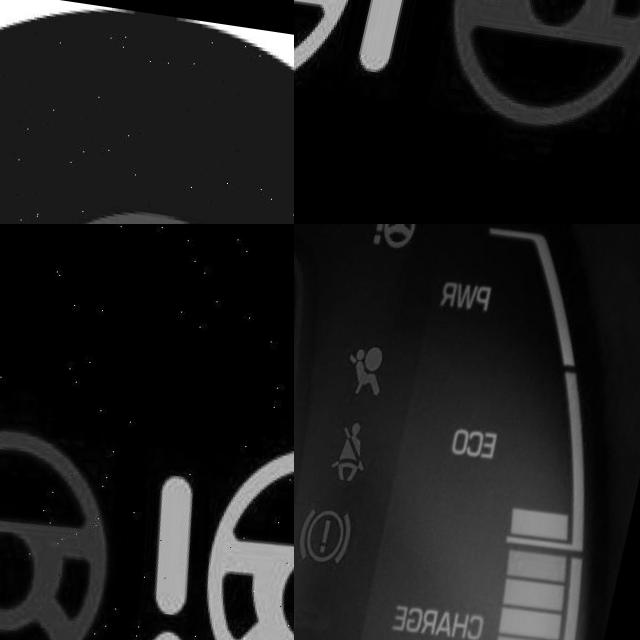Electronic Power Steering: (448, 0, 640, 137), (294, 0, 445, 107), (372, 224, 421, 240)
Electronic Power Steering Warning: (135, 412, 294, 640), (0, 407, 145, 640), (0, 176, 294, 224)
Seat Belt: (344, 409, 388, 474)
